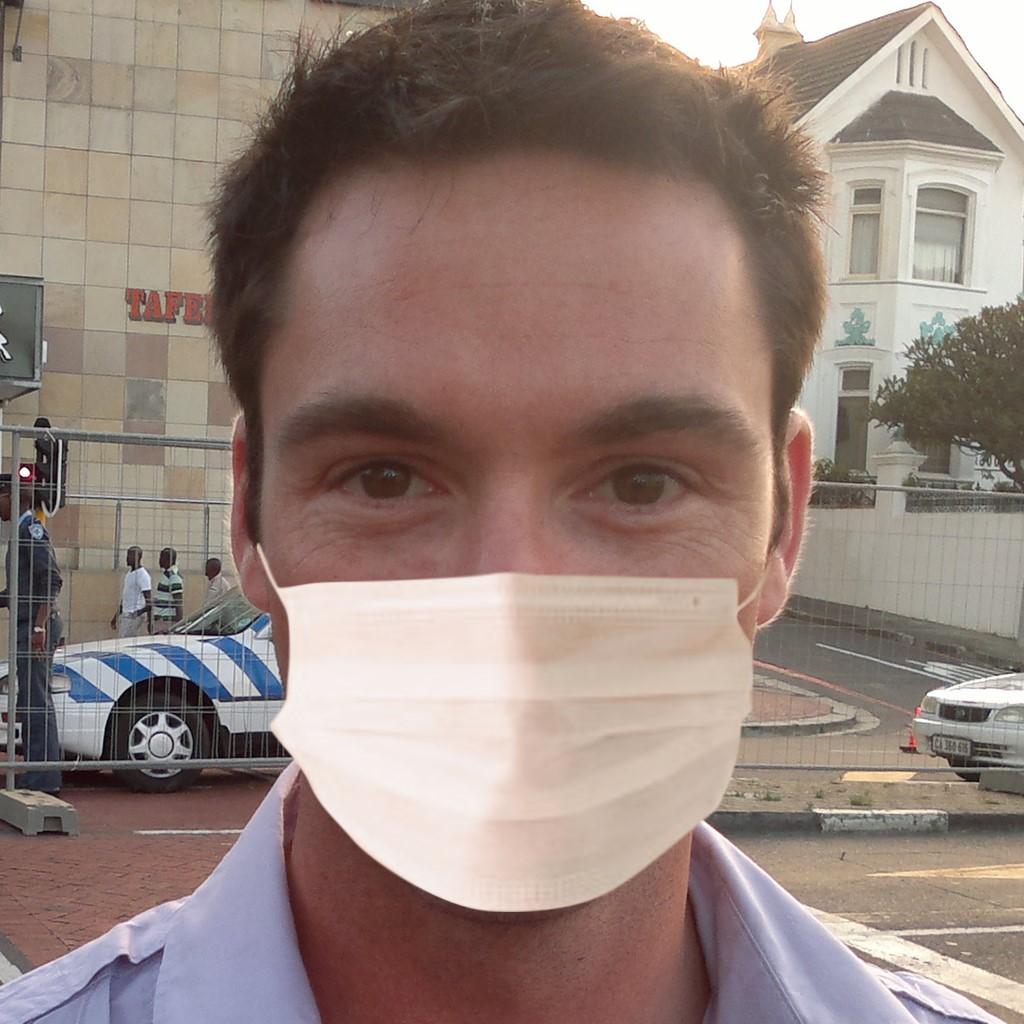con_mascara: (229, 113, 797, 946)
